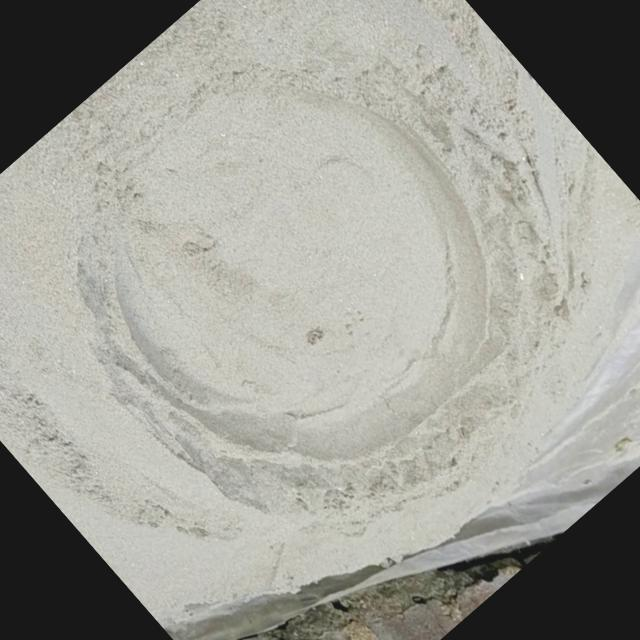C40: (110, 64, 493, 481)
